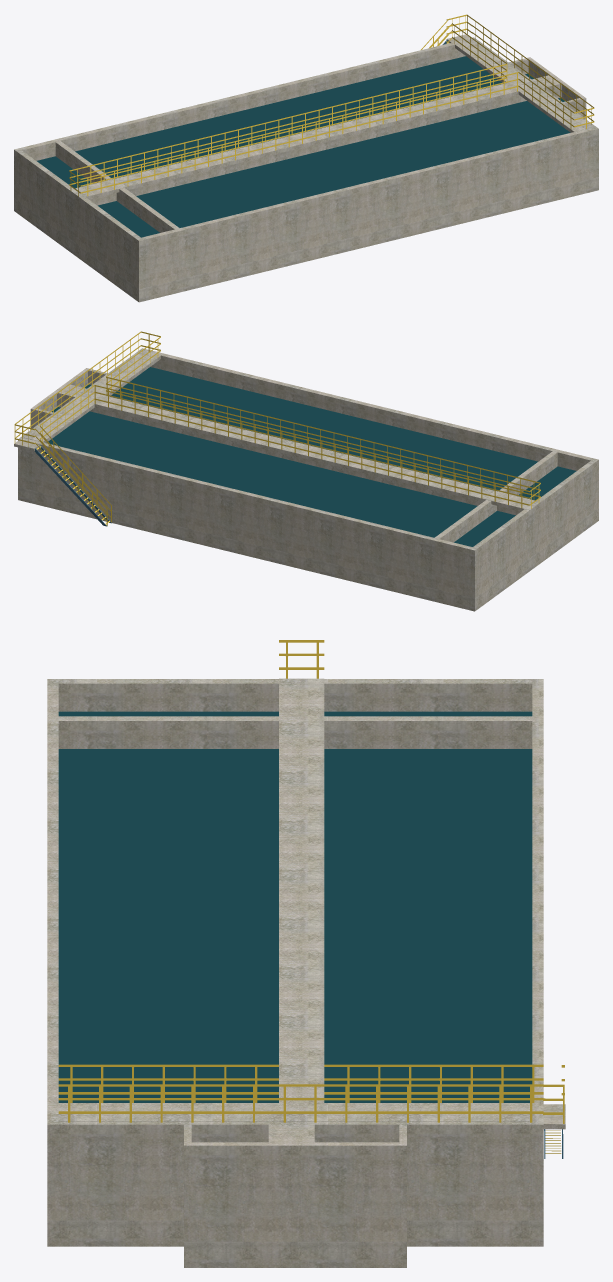
File: shuichifang.fbx
The picture shows the model from 3 angles, top to bottom: view 1: azimuth 30°, elevation 25°; view 2: azimuth 150°, elevation 25°; view 3: azimuth 270°, elevation 25°; orthographic projection. The views are drawn at different scales.
Visible parts, largest first — view 1: 对象003, 对象006, 对象004; view 2: 对象003, 对象006, 对象004, 对象007; view 3: 对象006, 对象003, 对象004.
Boxes of the visible parts, bbox=[...] form: 对象003: bbox=[14, 37, 598, 302]; 对象006: bbox=[37, 56, 570, 237]; 对象004: bbox=[69, 14, 594, 196]; 对象003: bbox=[18, 348, 598, 611]; 对象006: bbox=[46, 367, 576, 546]; 对象004: bbox=[14, 331, 540, 525]; 对象007: bbox=[34, 445, 111, 526]; 对象006: bbox=[58, 711, 532, 1102]; 对象003: bbox=[47, 678, 543, 1267]; 对象004: bbox=[58, 640, 564, 1153].
Size of the model in its own units: 53.66 by 8.62 by 25.19.
Materials: 5 (3 with a texture image).
